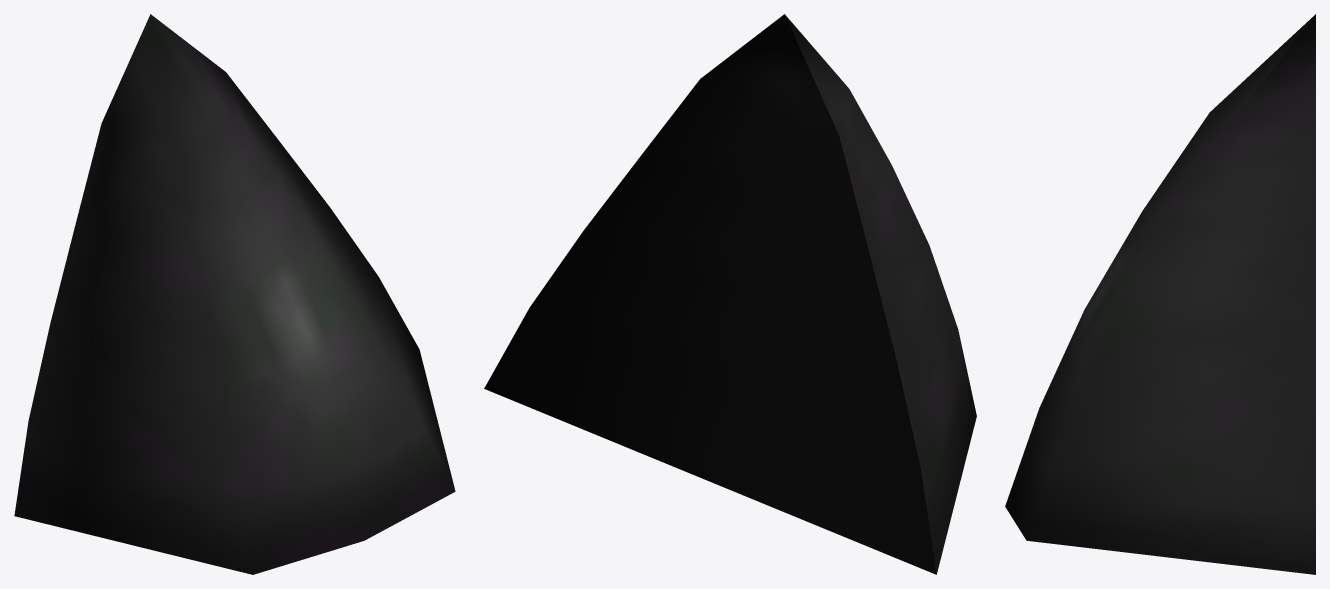
The model's file is ear_l.fbx.
3 renders of one model, left to right at view 1: azimuth 30°, elevation 25°; view 2: azimuth 150°, elevation 25°; view 3: azimuth 270°, elevation 25°, orthographic. The views are drawn at different scales.
Parts seen in each view (by area): view 1: ear_l; view 2: ear_l; view 3: ear_l.
Part boxes in pixels (x1,y1,x2,y2): ear_l: (14, 14, 455, 574); ear_l: (484, 14, 976, 574); ear_l: (1005, 14, 1315, 574).
Size of the model in its own units: 0.302 by 0.3339 by 0.1904.
